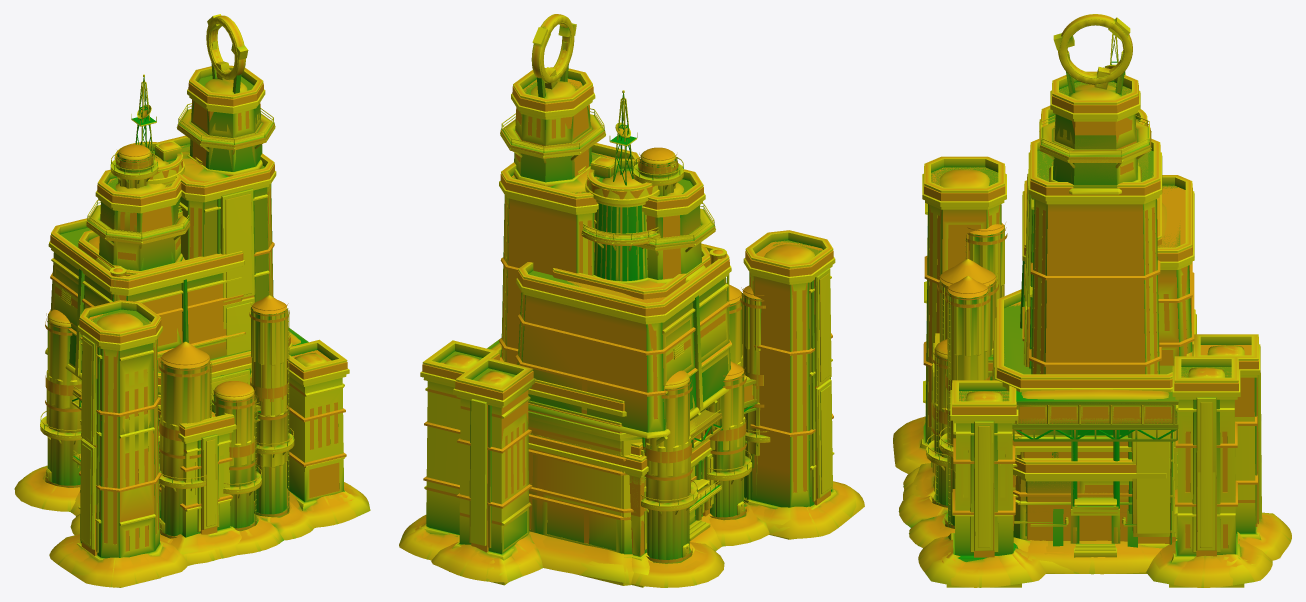
The model's file is buildings.glb.
3 views of the same model, side by side, from view 1: azimuth 30°, elevation 25°; view 2: azimuth 150°, elevation 25°; view 3: azimuth 270°, elevation 25° (orthographic). The views are drawn at different scales.
Visible parts, largest first — view 1: b2_l0_wallLight, b9_l0_wall, b2_l1_wallLight, b3_l0_trim, b0_l0_trim, b1_l0_trim, b6_l0_wall, b9_l0_snow, b3_l0_wallDark, b3_l0_accentDark, b2_l0_trim, b9_l1_wall (+50 smaller); view 2: b1_l0_wallDark, b1_l0_wall, b9_l0_wall, b1_l0_trim, b1_l2_trim, b3_l0_wallDark, b7_l0_wallLight, b3_l0_trim, b0_l0_wall, b7_l1_wallLight, b1_l0_snow, b0_l0_trim (+43 smaller); view 3: b3_l0_wall, b6_l0_wall, b3_l0_trim, b6_l0_snow, b9_l2_wall, b3_l0_wallDark, b9_l0_snow, b6_l0_trim, b9_l0_trim, b9_l0_wall, b1_l0_wallDark, b0_l0_trim (+48 smaller).
Boxes of the visible parts, x1,y1,x2,y2 form: b2_l0_wallLight: [160, 307, 287, 536]; b9_l0_wall: [72, 309, 163, 587]; b2_l1_wallLight: [161, 306, 286, 535]; b3_l0_trim: [158, 15, 276, 277]; b0_l0_trim: [78, 144, 292, 511]; b1_l0_trim: [48, 105, 251, 454]; b6_l0_wall: [287, 328, 344, 527]; b9_l0_snow: [49, 313, 188, 587]; b3_l0_wallDark: [180, 66, 273, 302]; b3_l0_accentDark: [225, 193, 252, 355]; b2_l0_trim: [158, 295, 294, 538]; b9_l1_wall: [119, 369, 154, 522]; b1_l0_wallDark: [459, 264, 730, 554]; b1_l0_wall: [449, 138, 728, 585]; b9_l0_wall: [689, 240, 836, 539]; b1_l0_trim: [453, 123, 731, 527]; b1_l2_trim: [455, 177, 732, 520]; b3_l0_wallDark: [501, 68, 599, 364]; b7_l0_wallLight: [645, 288, 761, 559]; b3_l0_trim: [499, 14, 705, 534]; b0_l0_wall: [531, 162, 705, 585]; b7_l1_wallLight: [645, 294, 759, 559]; b1_l0_snow: [431, 157, 665, 582]; b0_l0_trim: [493, 147, 715, 416]; b3_l0_wall: [1033, 82, 1157, 374]; b6_l0_wall: [946, 367, 1244, 587]; b3_l0_trim: [1022, 14, 1162, 460]; b6_l0_snow: [918, 367, 1272, 587]; b9_l2_wall: [928, 167, 1128, 541]; b3_l0_wallDark: [1029, 73, 1159, 374]; b9_l0_snow: [893, 169, 1159, 574]; b6_l0_trim: [950, 356, 1240, 532]; b9_l0_trim: [922, 156, 1166, 481]; b9_l0_wall: [920, 167, 1165, 573]; b1_l0_wallDark: [1158, 188, 1257, 523]; b0_l0_trim: [933, 105, 1195, 545].
Size of the model in its own units: 7819 by 11604 by 7810.
